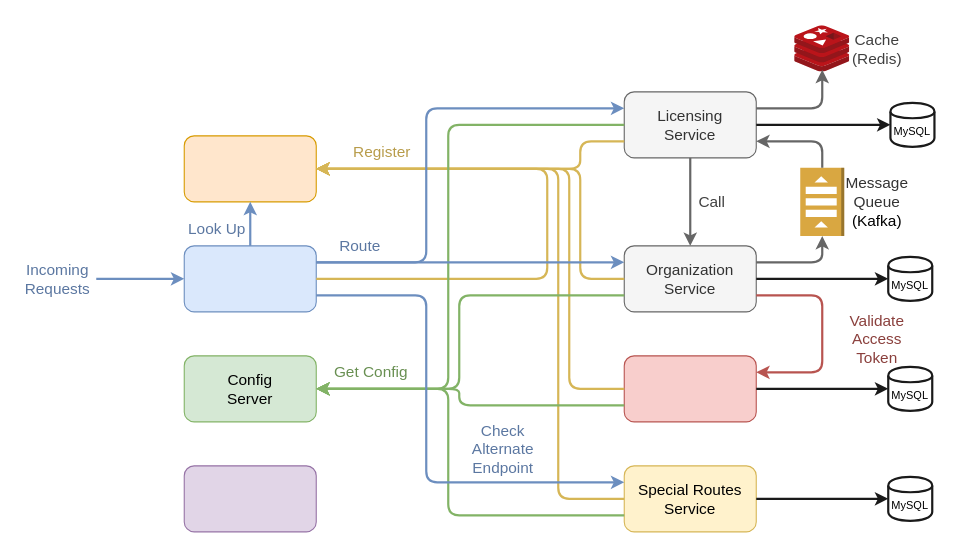
Image size: 954x551. Some labels were removed from this diagram. The shapes that lost their labels are listed below. From the top down, each one's centre as x and y in pixels, then its label:
(x=249, y=168): Eureka Server
(x=249, y=278): Zuul Server
(x=689, y=388): Authentication Service
(x=249, y=498): Zipkin Server
